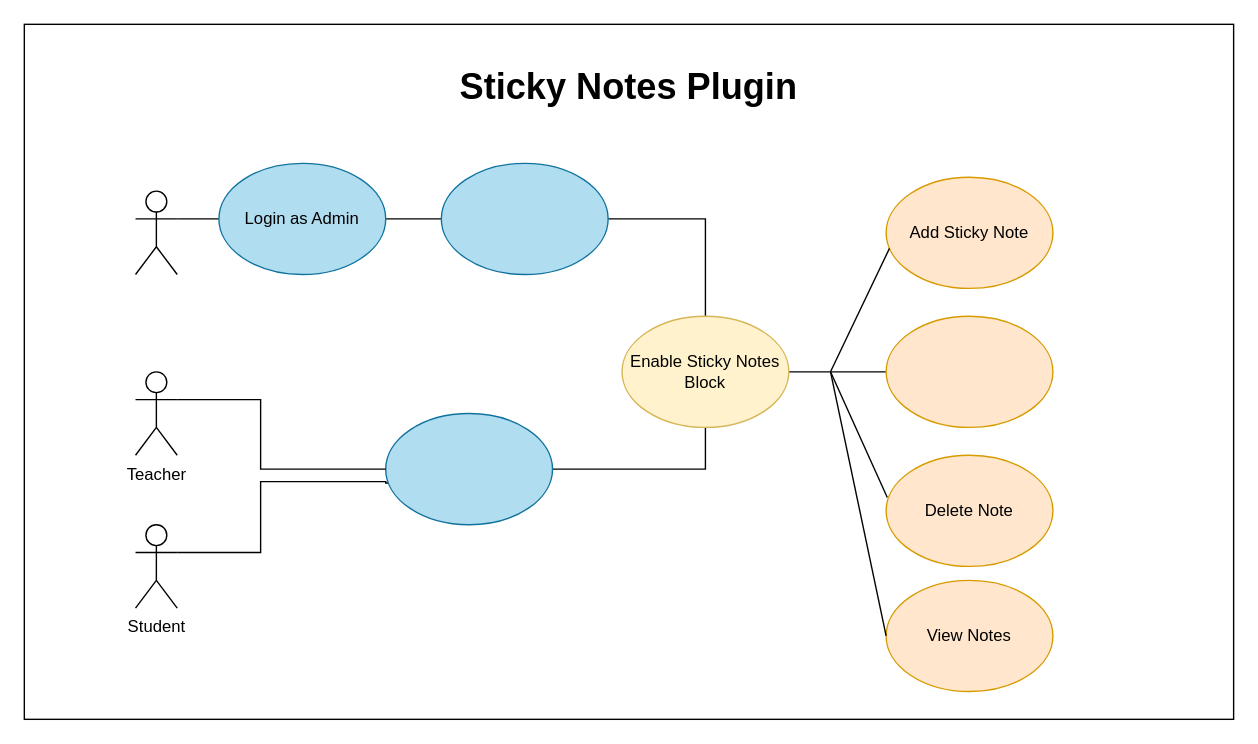
Some shapes in this 1258 by 744 pixel diagram are drawn without their labels. Here are the shapes that lost their labels. From the top down, the box of each, then its label:
(134, 190, 177, 275): Admin
(440, 162, 608, 275): Install Plugin
(885, 315, 1053, 427): Edit Note
(384, 412, 553, 525): Login as user
